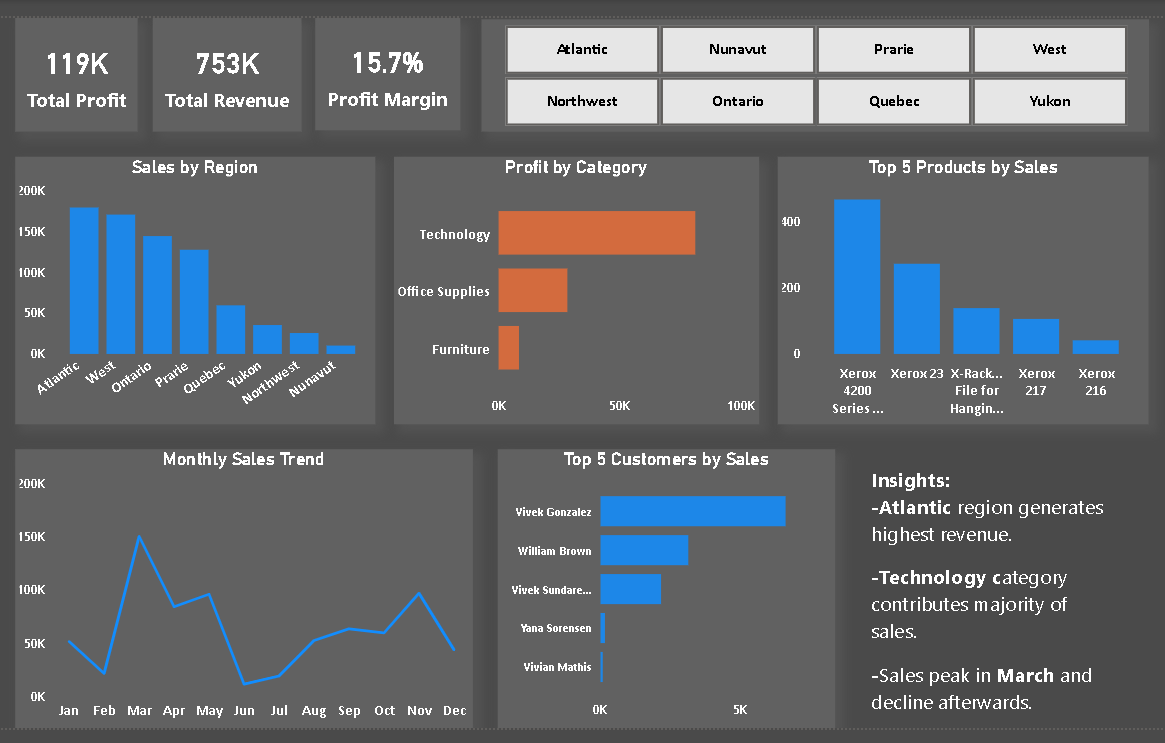

The page's visual inventory and layout, read from the dashboard file:
{"tool":"powerbi","page":{"name":"Page 1","canvas":[1280,780],"ordinal":0},"visuals":[{"type":"card","fields":{"Values":["sales.Profit Margin"]},"box":[347.2,0,159.2,123.5],"z":0},{"type":"card","fields":{"Values":["sales.Total Profit"]},"box":[17.8,0,134.5,124.9],"z":1000},{"type":"card","fields":{"Values":["sales.Total Sales"]},"box":[168.8,0,163.3,124.9],"z":2000},{"type":"columnChart","title":"Sales by Region","fields":{"Category":["customers.region"],"Y":["sales.Total Revenue"]},"box":[17.8,152.3,395.2,293.7],"z":3000},{"type":"barChart","title":"Profit by Category","fields":{"Category":["products.category"],"Y":["sales.Total Profit"]},"box":[433.6,152.3,400.7,293.7],"z":4000},{"type":"lineChart","title":"Monthly Sales Trend","fields":{"Y":["sales.Total Revenue"],"Category":["sales.Month Name"]},"box":[17.8,473.4,502.2,306],"z":5000},{"type":"columnChart","title":"Top 5 Products by Sales","fields":{"Category":["products.product_name"],"Y":["sales.Total Revenue"]},"box":[854.9,152.3,407.5,293.7],"z":6000},{"type":"barChart","title":"Top 5 Customers by Sales","fields":{"Category":["customers.customer_name"],"Y":["sales.Total Revenue"]},"box":[547.5,473.4,370.5,306],"z":7000},{"type":"slicer","fields":{"Values":["customers.region"]},"box":[529.7,1.4,732.8,123.5],"z":8000},{"type":"textbox","box":[952.3,485.8,274.4,293.7],"z":9000}]}

Visuals, with their boxes on the page's 1280x780 design canvas (x1, y1, x2, y2). These are canvas units, not pixel positions in the 1165x743 screenshot, which may show the page scaled, cropped or inside an application window:
card - sales.Profit Margin: box=[347, 0, 506, 124]
card - sales.Total Profit: box=[18, 0, 152, 125]
card - sales.Total Sales: box=[169, 0, 332, 125]
"Sales by Region" columnChart: box=[18, 152, 413, 446]
"Profit by Category" barChart: box=[434, 152, 834, 446]
"Monthly Sales Trend" lineChart: box=[18, 473, 520, 779]
"Top 5 Products by Sales" columnChart: box=[855, 152, 1262, 446]
"Top 5 Customers by Sales" barChart: box=[548, 473, 918, 779]
slicer - customers.region: box=[530, 1, 1262, 125]
textbox: box=[952, 486, 1227, 780]
